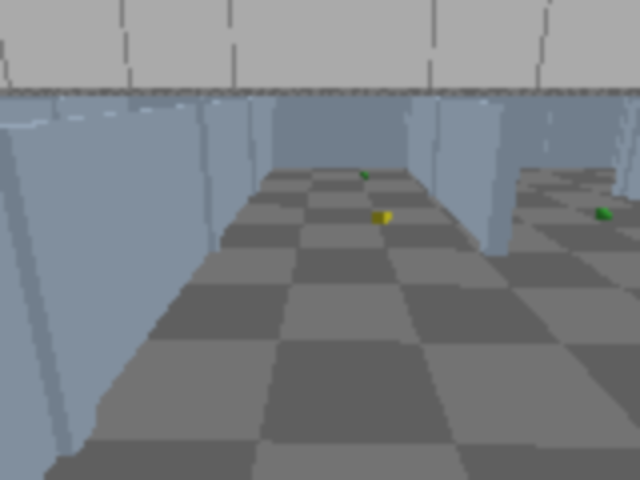puck: (591, 206, 616, 223), (374, 210, 390, 226)
